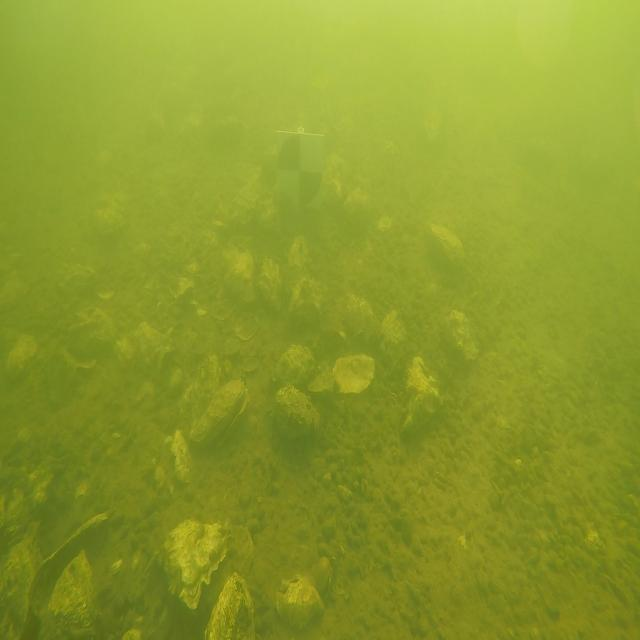Oyster- Indeterminate: (402, 356, 441, 431), (94, 193, 126, 238)
Oyster-Closed: (166, 519, 229, 608), (39, 551, 98, 640), (0, 524, 42, 639), (205, 573, 255, 640), (69, 307, 116, 367), (276, 578, 324, 629), (275, 384, 319, 438), (428, 224, 465, 284), (441, 309, 479, 367), (289, 276, 324, 330), (275, 344, 318, 387), (134, 322, 172, 368), (224, 247, 254, 302), (345, 296, 380, 342), (380, 311, 406, 368), (259, 258, 281, 311), (8, 336, 38, 373), (288, 236, 309, 282)
Oyster-Open: (29, 513, 109, 611), (180, 353, 249, 447), (309, 353, 375, 393)
